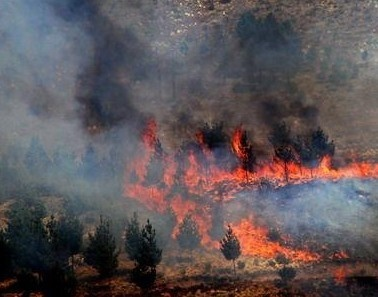fire: (118, 124, 359, 260)
